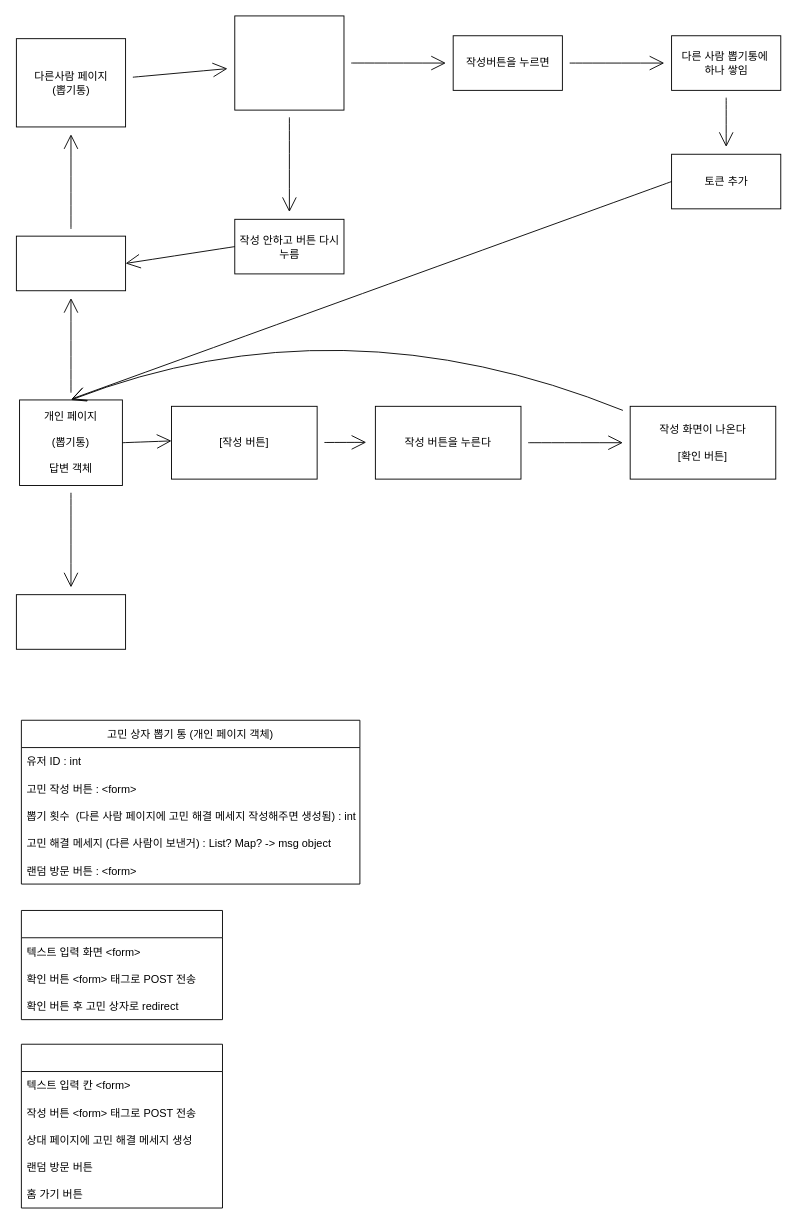
Image size: 796x1224. Some labels were removed from this diagram. Here are the shapes that lost their labels. From the top down, the box of each, then its label:
(234, 15, 344, 110): 고민을 해결해줄래? [입력 칸이 있음] [작성 버튼]
(15, 235, 126, 291): [랜덤 방문 버튼]
(15, 594, 126, 649): 고민이 입력됨
(20, 910, 222, 1020): 고민 작성 페이지
(20, 1043, 222, 1208): 다른 사람 페이지
